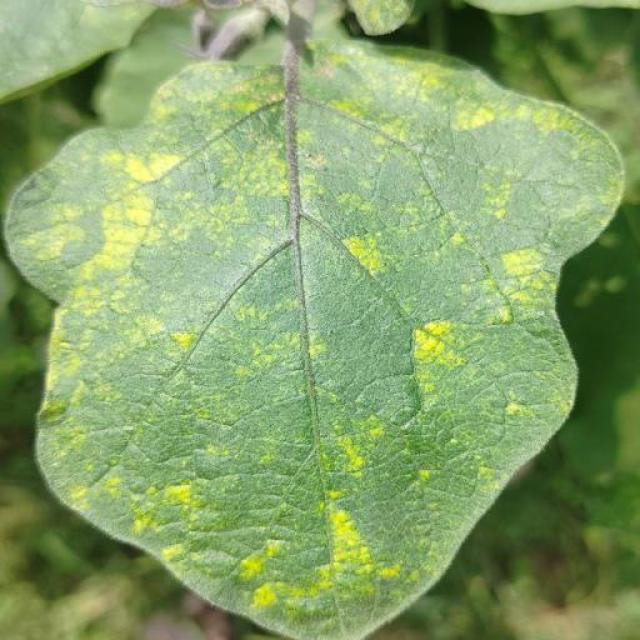leaf_spot: (82, 364, 325, 521), (146, 58, 301, 194), (266, 164, 392, 304), (503, 89, 620, 215), (140, 163, 274, 268), (214, 279, 345, 382), (93, 457, 215, 565), (392, 49, 518, 153), (303, 392, 392, 509), (477, 222, 567, 336), (320, 489, 397, 604), (45, 252, 95, 422), (105, 284, 197, 376), (94, 168, 160, 296), (218, 518, 303, 617), (327, 80, 420, 162), (21, 199, 113, 274), (433, 216, 532, 284), (405, 309, 478, 401), (81, 136, 193, 190), (450, 452, 534, 504), (329, 224, 392, 287), (400, 446, 453, 501), (498, 379, 522, 424)
